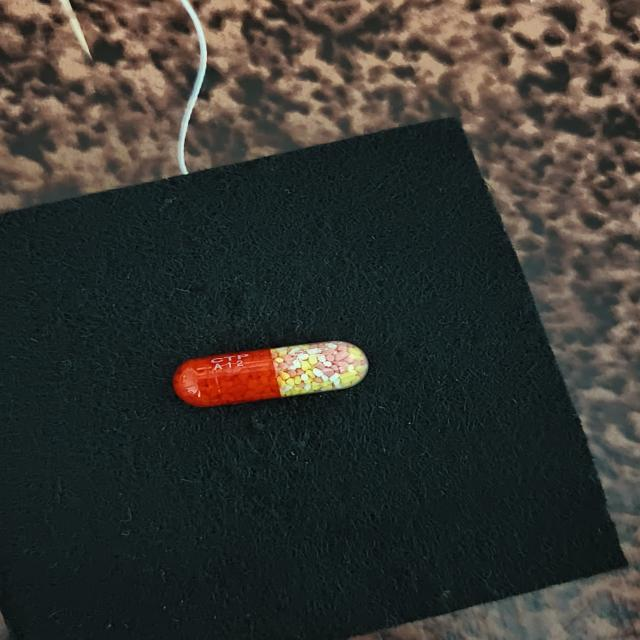Intact Capsule: (172, 341, 369, 407)
